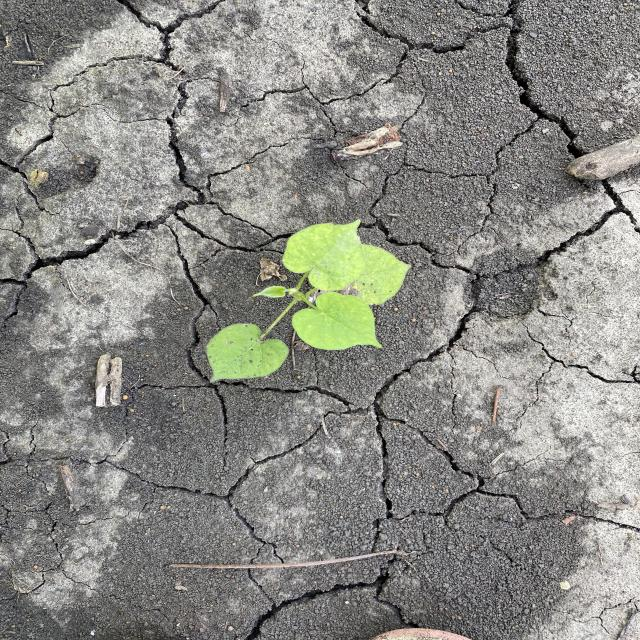MorningGlory: (203, 217, 415, 384)
